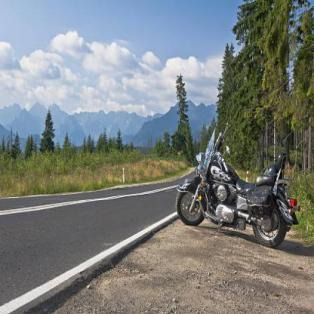Motocicleta: (175, 118, 298, 244)
